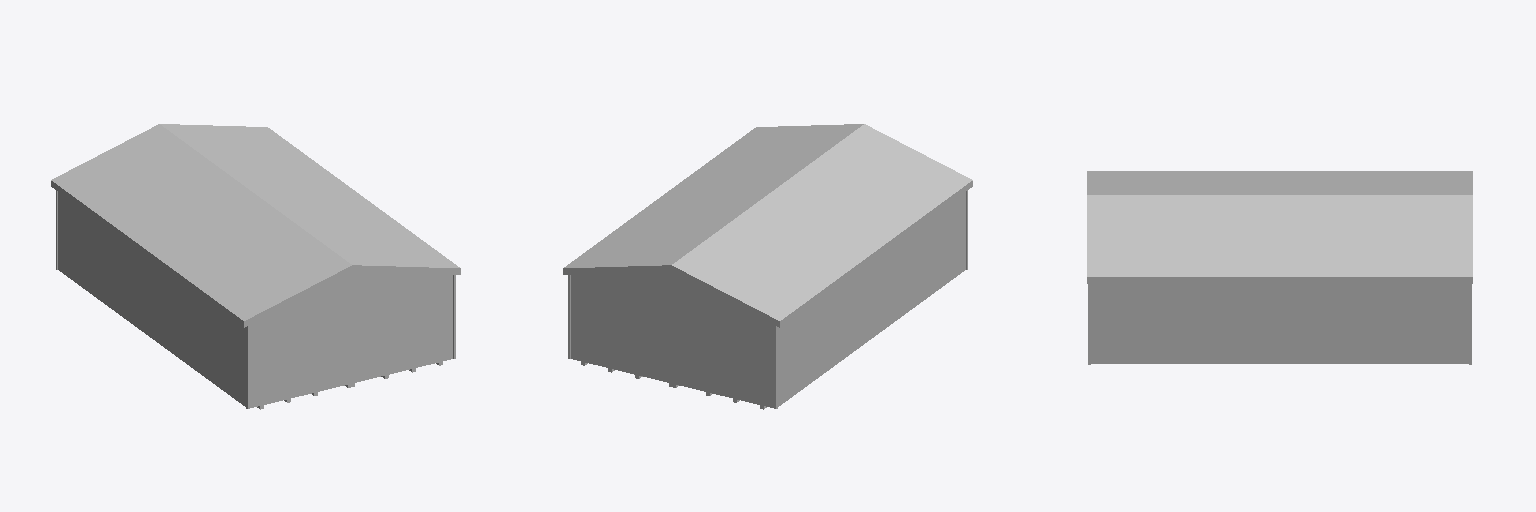
Rendered from Double Garage 3-12 PITCH ROOF_20x32.obj.
The picture shows the model from 3 angles: view 1: azimuth 30°, elevation 25°; view 2: azimuth 150°, elevation 25°; view 3: azimuth 270°, elevation 25°; orthographic projection.
Visible parts, largest first — view 1: Double Garage 3-12 PITCH ROOF_20x32.obj; view 2: Double Garage 3-12 PITCH ROOF_20x32.obj; view 3: Double Garage 3-12 PITCH ROOF_20x32.obj.
Part boxes in pixels (bbox=[...]): Double Garage 3-12 PITCH ROOF_20x32.obj: bbox=[51, 124, 460, 409]; Double Garage 3-12 PITCH ROOF_20x32.obj: bbox=[563, 124, 972, 409]; Double Garage 3-12 PITCH ROOF_20x32.obj: bbox=[1087, 171, 1472, 364].
Bounding box in the file's own units: 6.4 × 3.46 × 9.86.